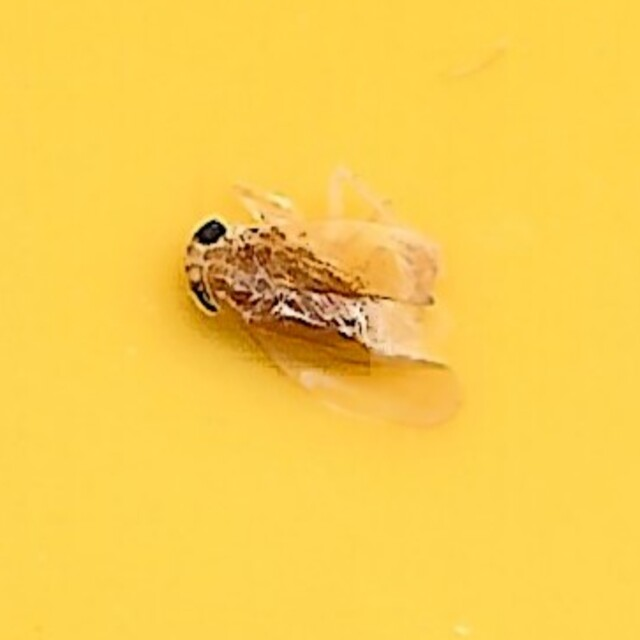Hemiptera: (176, 208, 464, 432)
